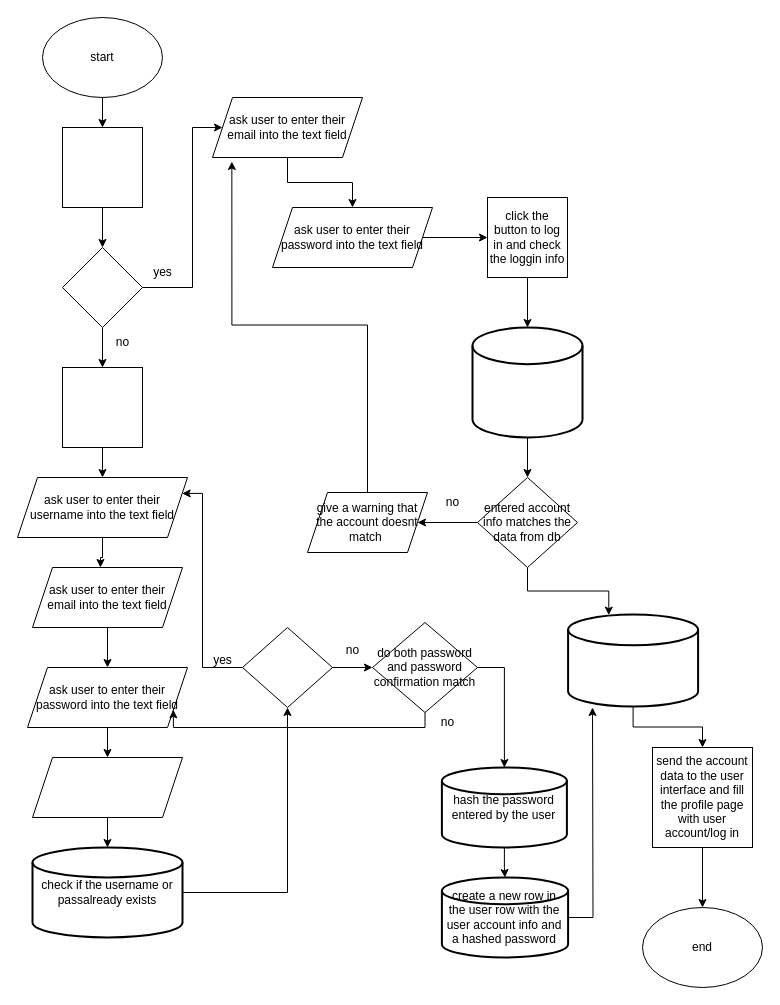
This 780x1005 diagram has some shape labels left out. Each missing label, with the box of its shape:
ask user to confirm their passsword: (32, 756, 182, 818)
check db for if data matches the data from database: (471, 326, 583, 438)
direct to create an account form: (62, 366, 142, 448)
direct to log in page/form: (62, 126, 142, 208)
do you have an account: (62, 246, 142, 328)
read the data that the account holds them: (567, 613, 699, 707)
username or passwords already exists: (242, 626, 332, 708)
